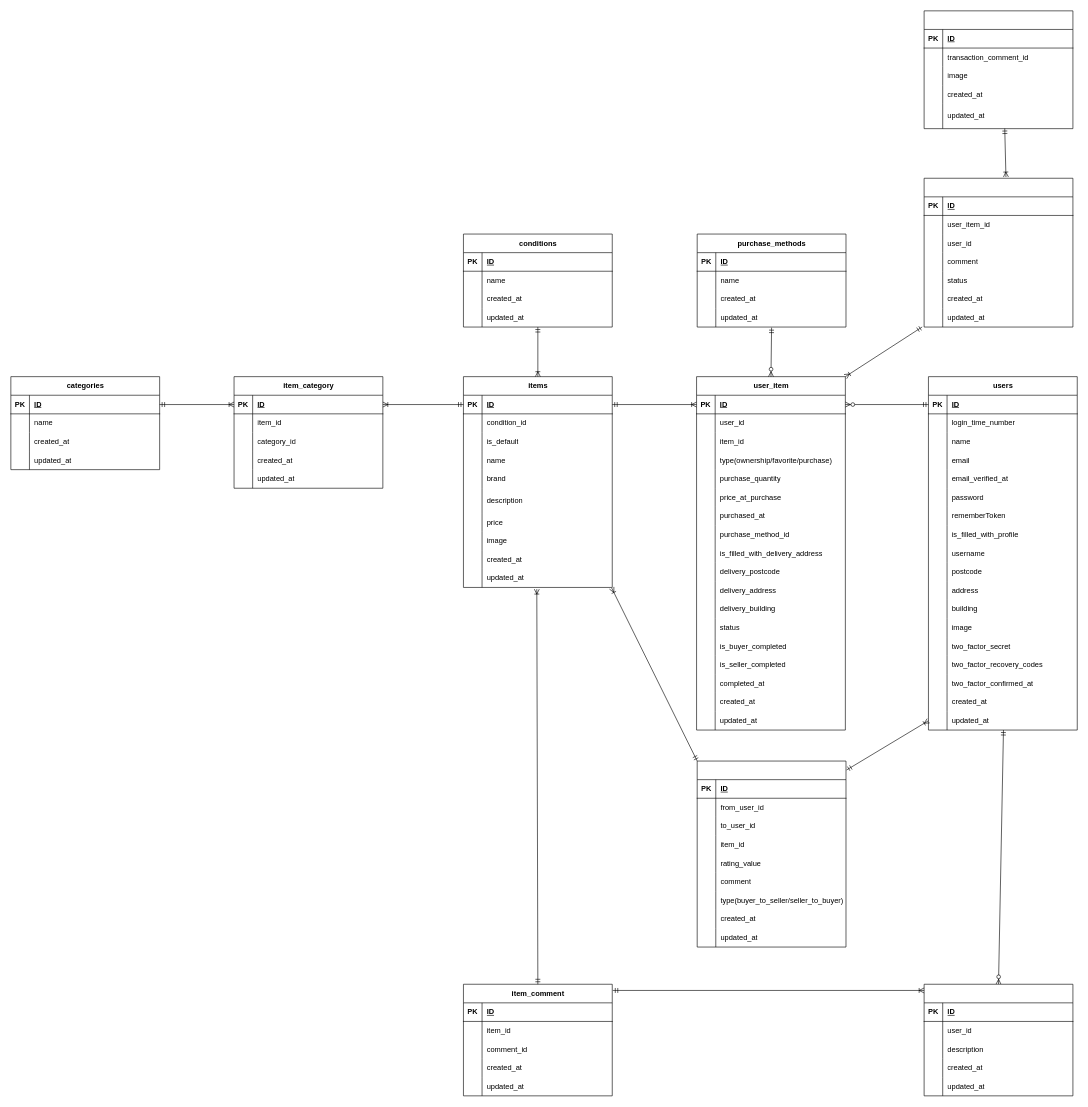
The diagram is 1088 pixels wide and 1107 high, and some of its shapes have lost their labels. The shapes that lost their labels are listed below. From the top down, each one's box as (x1, y1, x2, y2) in pixels, then its label:
(923, 10, 1073, 129): transaction_images
(923, 178, 1073, 327): transaction_comments
(697, 760, 846, 947): ratings
(923, 984, 1073, 1096): comments
